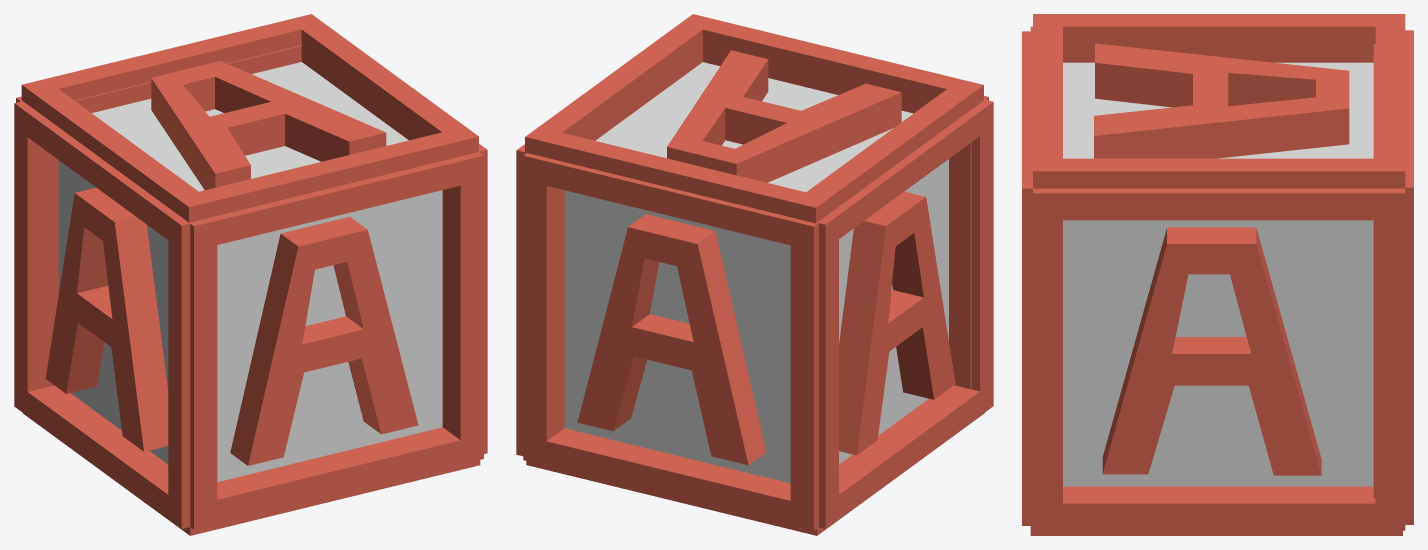
The model's file is A_Block.fbx.
The picture shows the model from 3 angles, left to right: view 1: azimuth 30°, elevation 25°; view 2: azimuth 150°, elevation 25°; view 3: azimuth 270°, elevation 25°; orthographic projection. The views are drawn at different scales.
Parts seen in each view (by area): view 1: pCube57, pCube57.002, pCube57.004, pCube57.003; view 2: pCube57, pCube57.002, pCube57.004; view 3: pCube57, pCube57.002.
Boxes of the visible parts, box(x1,y1,x2,y2) form: pCube57: box(14, 14, 487, 535); pCube57.002: box(92, 62, 442, 481); pCube57.004: box(58, 160, 168, 464); pCube57.003: box(305, 265, 345, 325); pCube57: box(516, 14, 993, 535); pCube57.002: box(564, 62, 913, 483); pCube57.004: box(839, 159, 948, 464); pCube57: box(1022, 14, 1413, 535); pCube57.002: box(1063, 62, 1373, 486).
Bounding box in the file's own units: 52.96 × 54.03 × 52.61.
